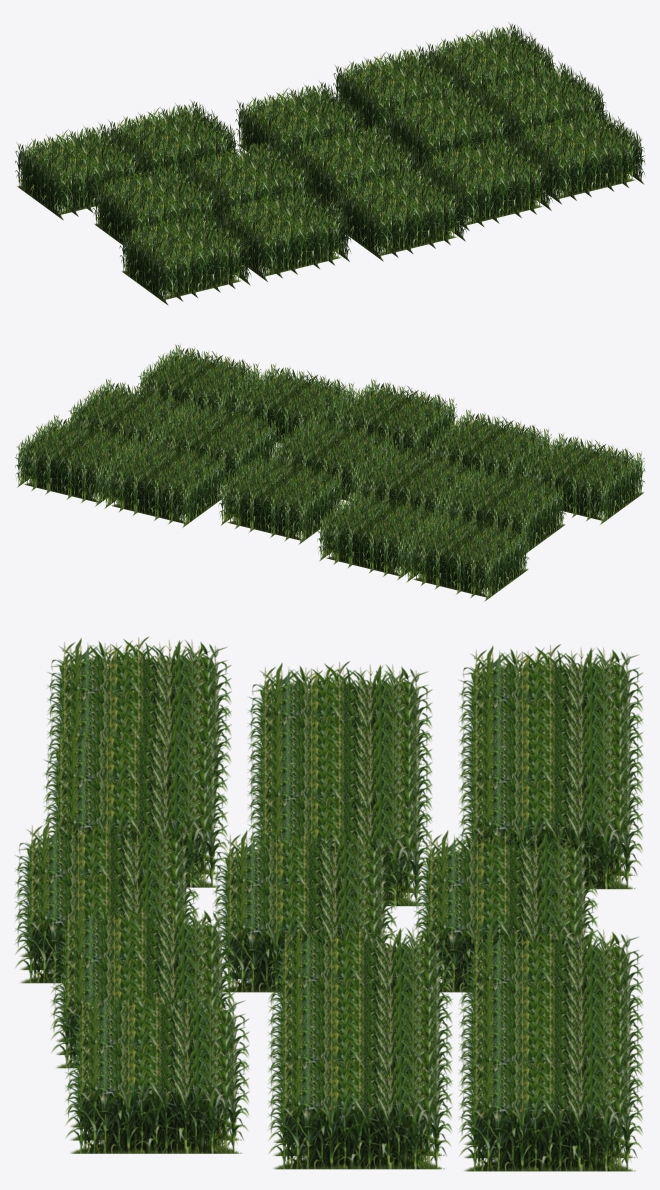
3 renders of one model, top to bottom at view 1: azimuth 30°, elevation 25°; view 2: azimuth 150°, elevation 25°; view 3: azimuth 270°, elevation 25°, orthographic. The views are drawn at different scales.
Parts seen in each view (by area): view 1: cosechas_atlas_cosechas_0; view 2: cosechas_atlas_cosechas_0; view 3: cosechas_atlas_cosechas_0.
Boxes of the visible parts, x1,y1,x2,y2 form: cosechas_atlas_cosechas_0: [15, 22, 645, 305]; cosechas_atlas_cosechas_0: [15, 344, 645, 601]; cosechas_atlas_cosechas_0: [14, 636, 643, 1171].
Bounding box in the file's own units: 21.24 × 2.01 × 12.59.
Materials: 1 (1 with a texture image).
